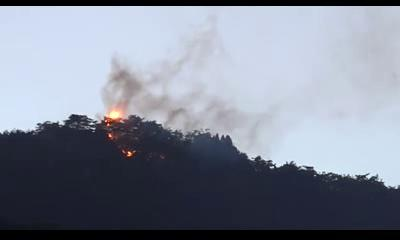fire: (110, 108, 121, 118)
smoke: (110, 56, 202, 108)
